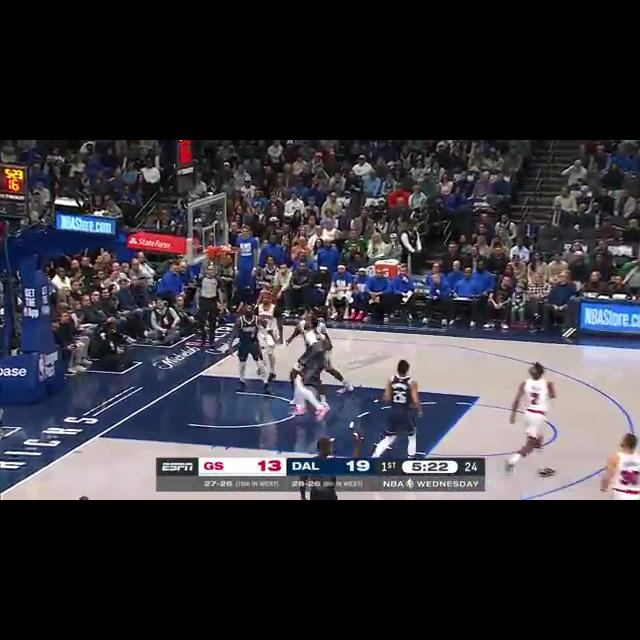Ball: (216, 254, 238, 270)
Team-1-Player: (220, 305, 282, 397), (378, 360, 424, 456), (293, 321, 333, 419)
Team-2-Player: (508, 358, 564, 476), (588, 420, 640, 500), (256, 289, 298, 355)
